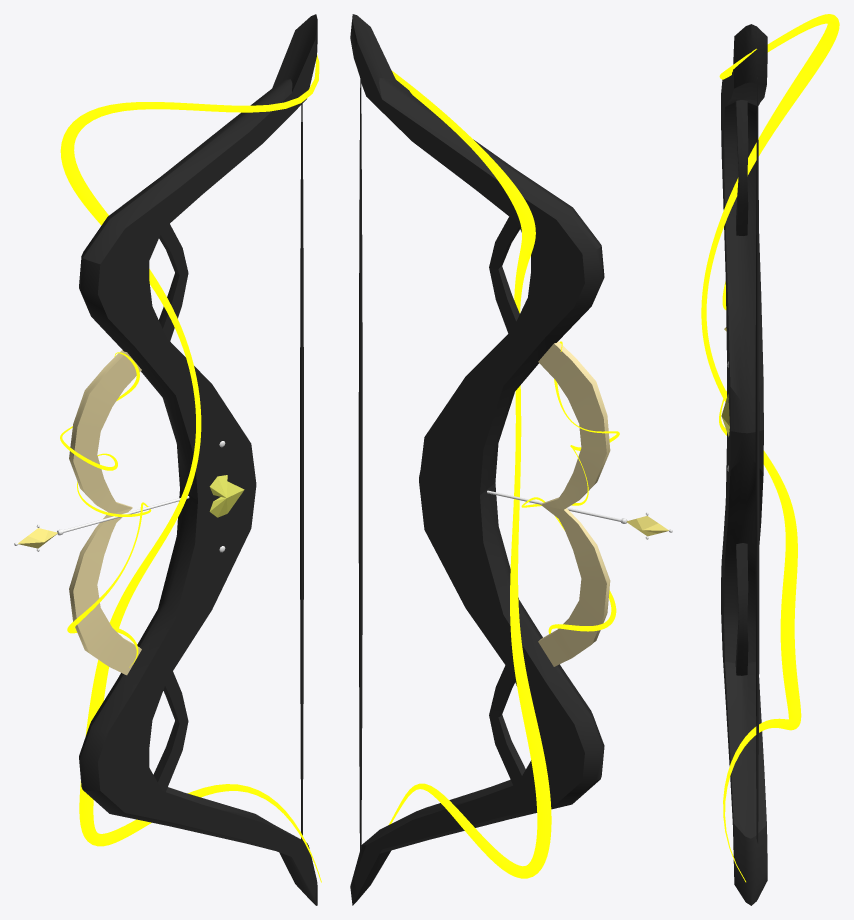
File: Palette_Bow_0702.fbx
3 renders of one model, left to right at view 1: azimuth 30°, elevation 25°; view 2: azimuth 150°, elevation 25°; view 3: azimuth 270°, elevation 25°, orthographic.
Parts seen in each view (by area): view 1: Plane.022; view 2: Plane.022; view 3: Plane.022.
Part boxes in pixels (x1,y1,x2,y2): Plane.022: (14,14,321,905); Plane.022: (350,14,672,905); Plane.022: (701,14,839,905).
Size of the model in its own units: 95.28 by 259 by 36.79.
